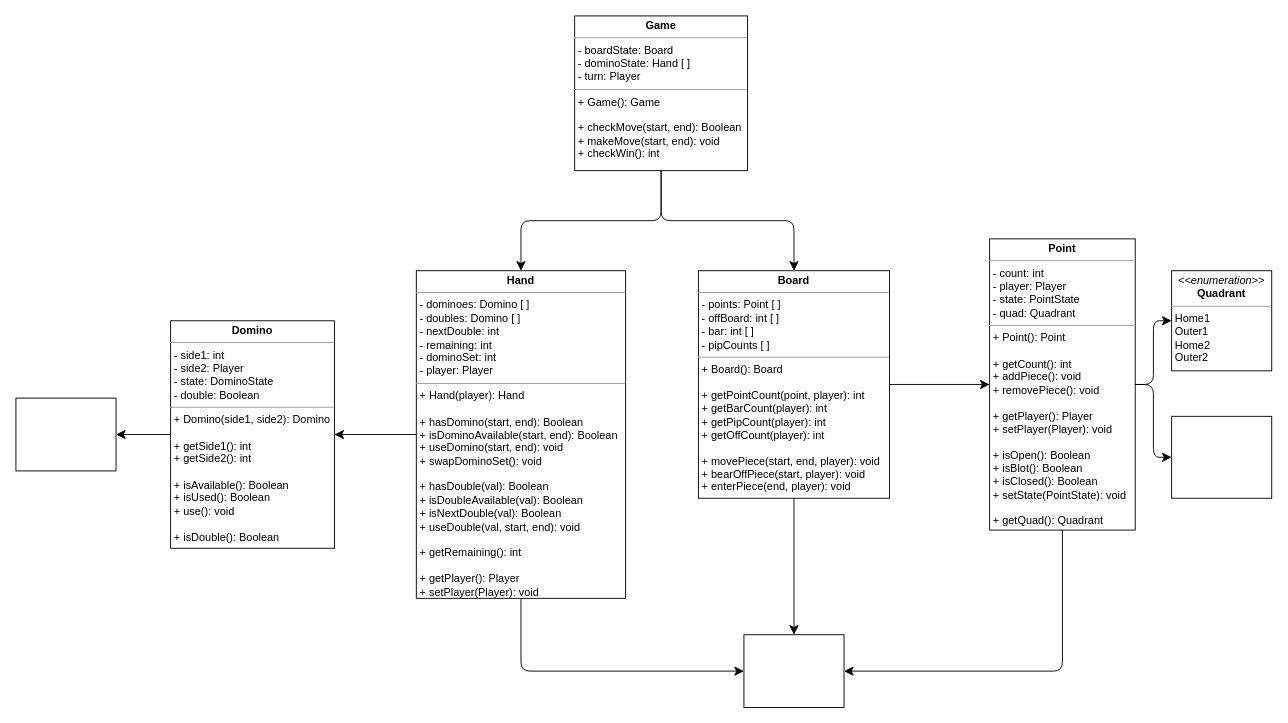
The diagram is 1288 pixels wide and 723 high, and some of its shapes have lost their labels. Each missing label, with the centre of its shape:
"<<enumeration>> DominoState Available Used" goes at point 65,434.
"<<enumeration>> Player 1 2" goes at point 793,671.
"<<enumeration>> PointState Open Blot Closed" goes at point 1221,456.
